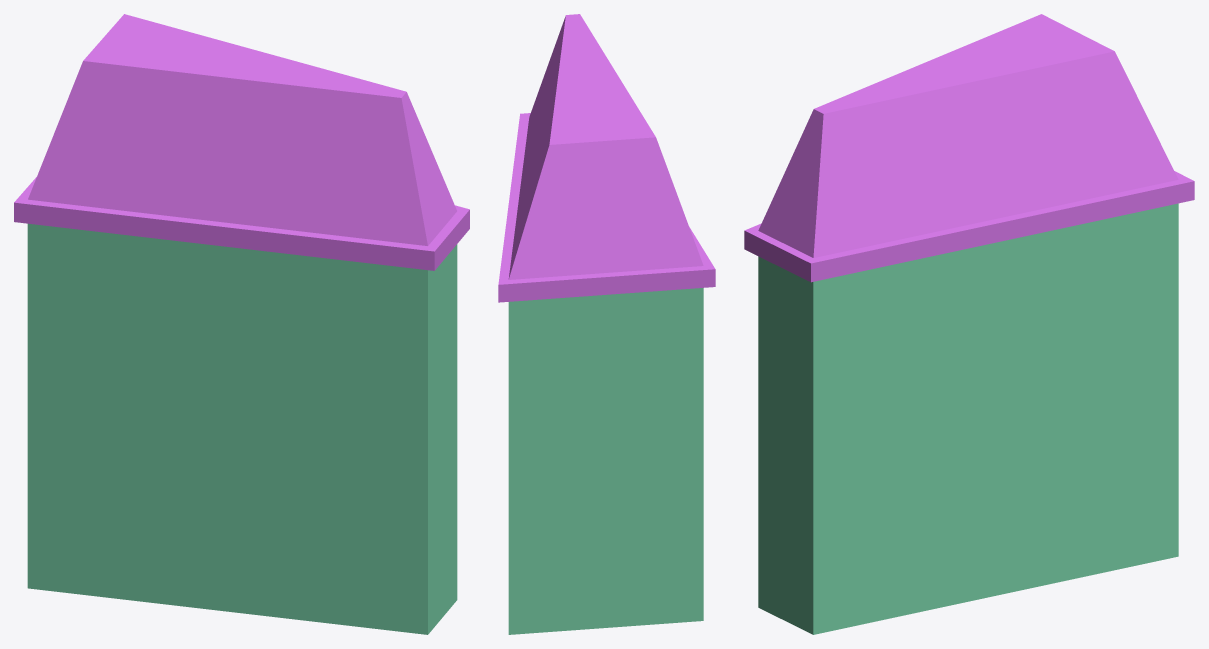
File: Batiment7.fbx
3 views of the same model, side by side, from view 1: azimuth 30°, elevation 25°; view 2: azimuth 150°, elevation 25°; view 3: azimuth 270°, elevation 25° (orthographic). The views are drawn at different scales.
Parts seen in each view (by area): view 1: Batiment7; view 2: Batiment7; view 3: Batiment7.
Boxes of the visible parts, box(x1,y1,x2,y2) form: Batiment7: box(14, 14, 469, 634); Batiment7: box(498, 14, 715, 634); Batiment7: box(744, 14, 1194, 634).
Size of the model in its own units: 22.06 by 32.43 by 26.48.
